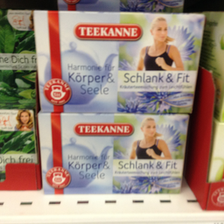tea: (32, 7, 206, 112), (37, 111, 190, 196)
